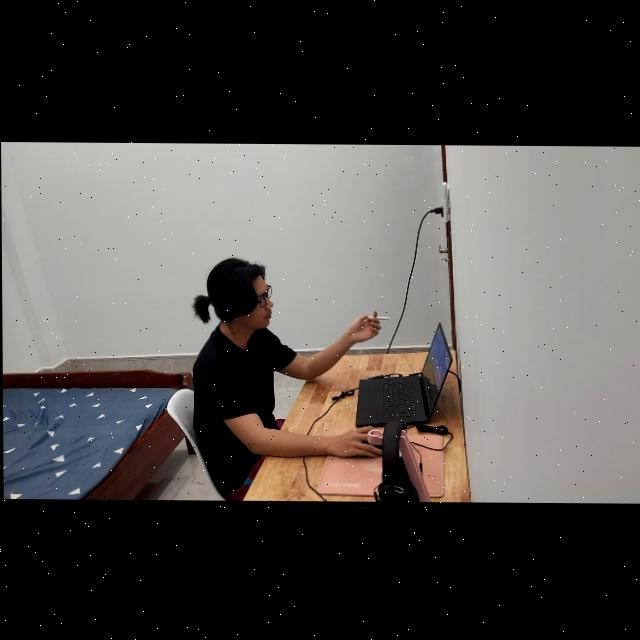cigarette: (368, 315, 390, 319)
